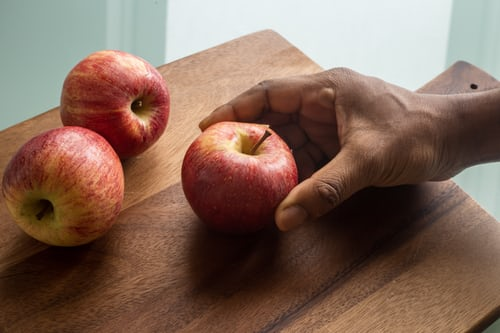apple: (1, 124, 130, 248), (180, 120, 299, 239), (59, 45, 171, 160)
